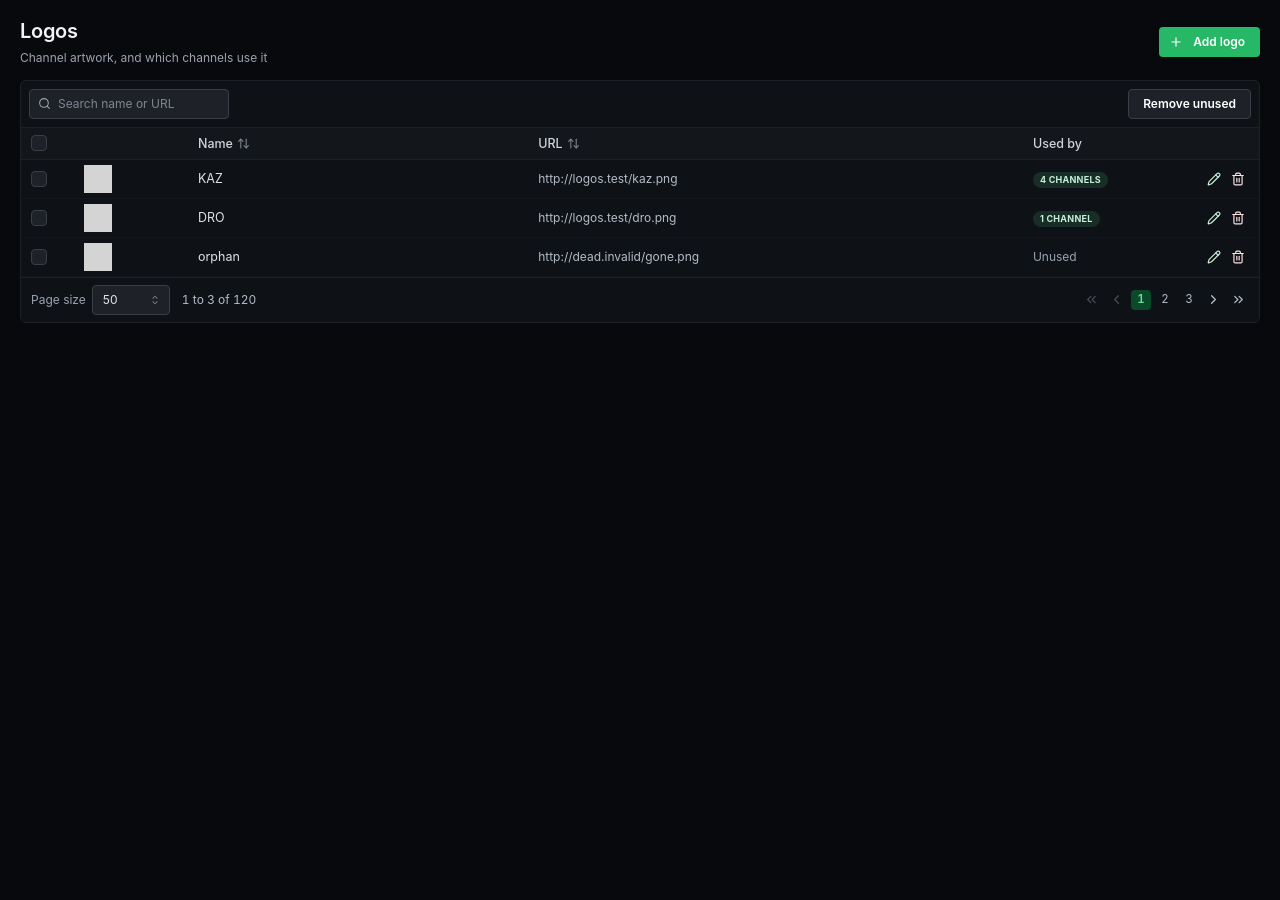
deleting logos › warns that channels lose their artwork, because the server will not
Expected: the text "KAZ" is shown, [188,160,528,199]
Click the button named "Delete KAZ" at (1238, 179), box [1227,168,1249,190]
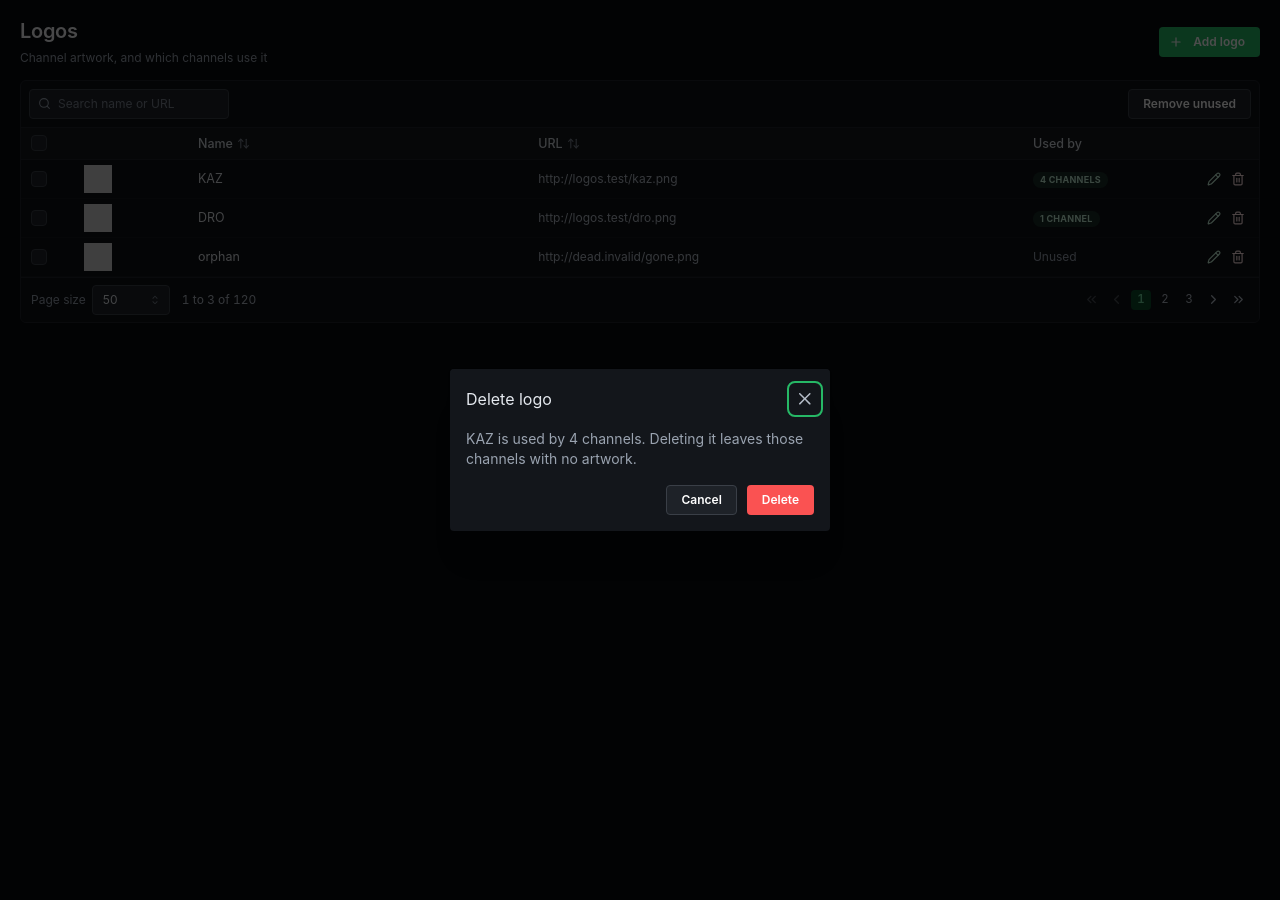
Result: the text "no artwork" is shown at [466,430,803,467]
